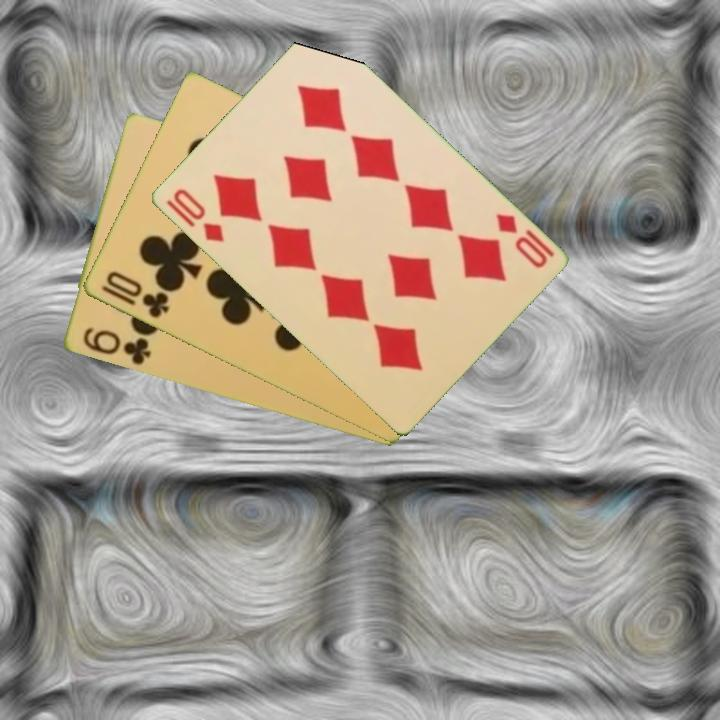10c: (97, 268, 171, 322)
10d: (491, 209, 557, 272), (162, 185, 227, 246)
6c: (79, 324, 154, 368)
